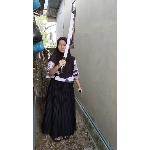Pedang: (56, 11, 76, 75)
